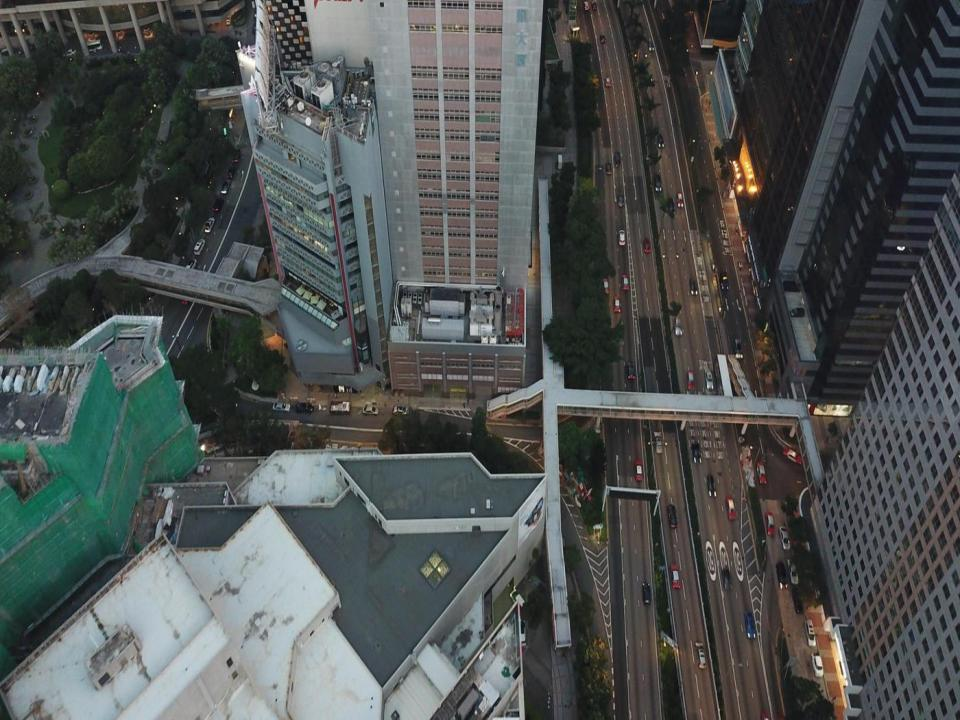bus: (715, 354, 735, 415), (79, 39, 103, 51)
car: (666, 502, 679, 531), (783, 447, 804, 464), (779, 523, 792, 549), (776, 561, 788, 589), (756, 459, 768, 485), (812, 652, 824, 677), (746, 610, 756, 639), (670, 563, 681, 589), (705, 473, 716, 497), (654, 429, 663, 458), (697, 642, 707, 668), (793, 590, 804, 612), (722, 568, 732, 592), (653, 172, 664, 193), (193, 238, 206, 255), (642, 581, 652, 603), (734, 336, 744, 358), (766, 512, 775, 536), (692, 442, 702, 463), (703, 370, 714, 389), (726, 495, 735, 518), (687, 369, 697, 389), (790, 562, 798, 587), (391, 404, 409, 415), (184, 257, 195, 275), (626, 361, 635, 381), (273, 402, 290, 412), (232, 147, 242, 164), (212, 197, 223, 212), (720, 272, 729, 290), (220, 179, 231, 193), (689, 277, 698, 294), (644, 237, 652, 256), (204, 217, 214, 232), (676, 192, 684, 209), (604, 159, 612, 175), (618, 229, 625, 247), (636, 461, 642, 480), (676, 316, 682, 335), (614, 151, 621, 167), (624, 273, 630, 291), (618, 190, 624, 208), (603, 278, 609, 296), (228, 165, 235, 180), (604, 74, 612, 87), (658, 135, 665, 149), (364, 406, 378, 413), (60, 48, 74, 55), (614, 297, 620, 312), (648, 38, 654, 51), (599, 33, 604, 41)
van: (804, 618, 816, 645), (294, 401, 314, 413)
